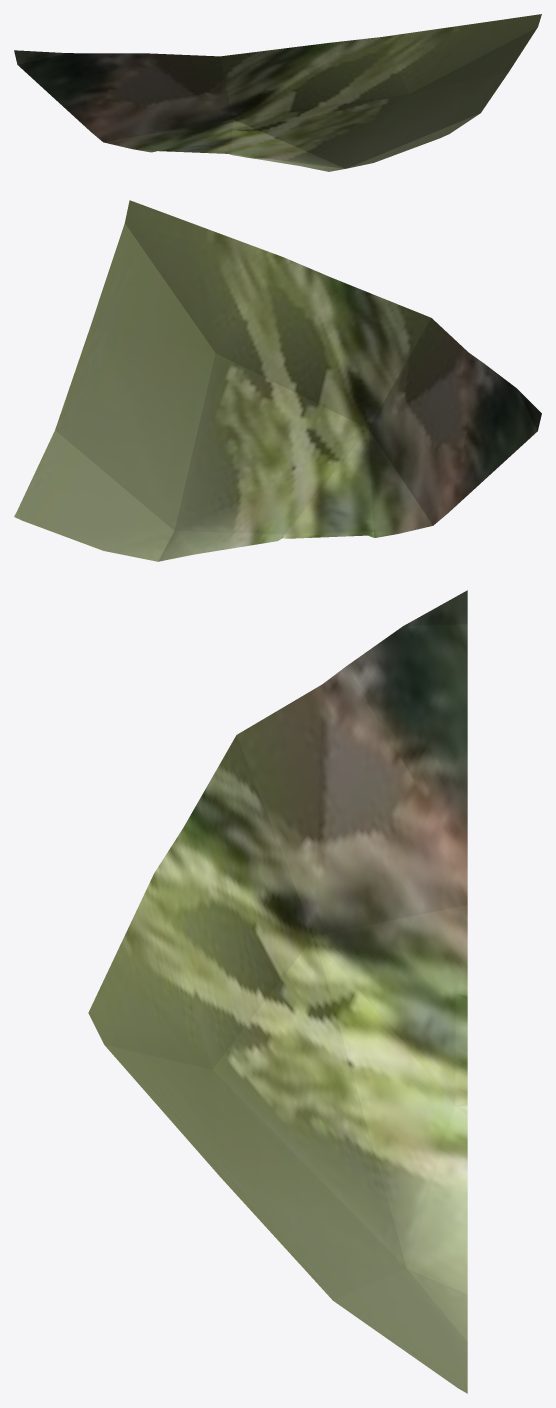
The picture shows the model from 3 angles, top to bottom: view 1: azimuth 30°, elevation 25°; view 2: azimuth 150°, elevation 25°; view 3: azimuth 270°, elevation 25°; orthographic projection. The views are drawn at different scales.
Size of the model in its own units: 13.76 by 6.09 by 5.22.
1 material, 1 textured.
